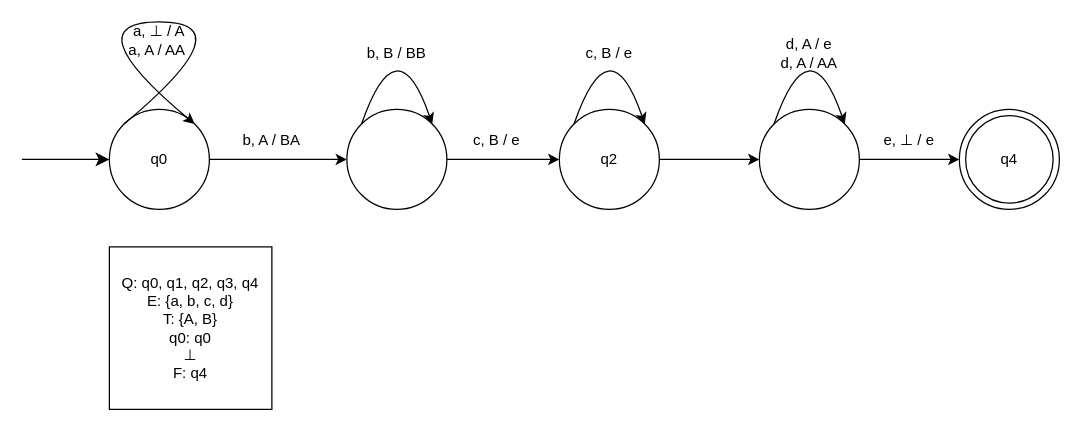
Image size: 1081x431. Some labels were removed from this diagram. Here are the shapes that lost their labels. From the top down, the centre of each, then its label:
At (x=396, y=158): "q1".
At (x=808, y=158): "q3".
